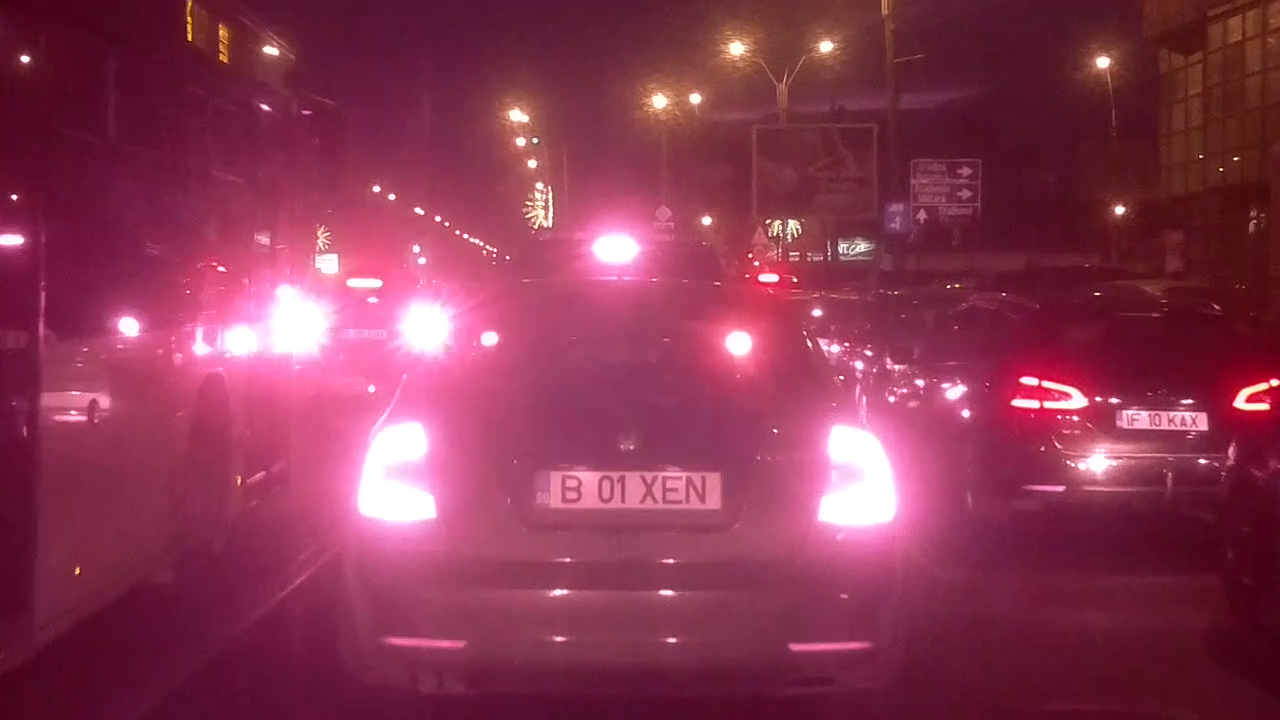license-plate: (524, 465, 727, 514), (1112, 408, 1211, 433)
